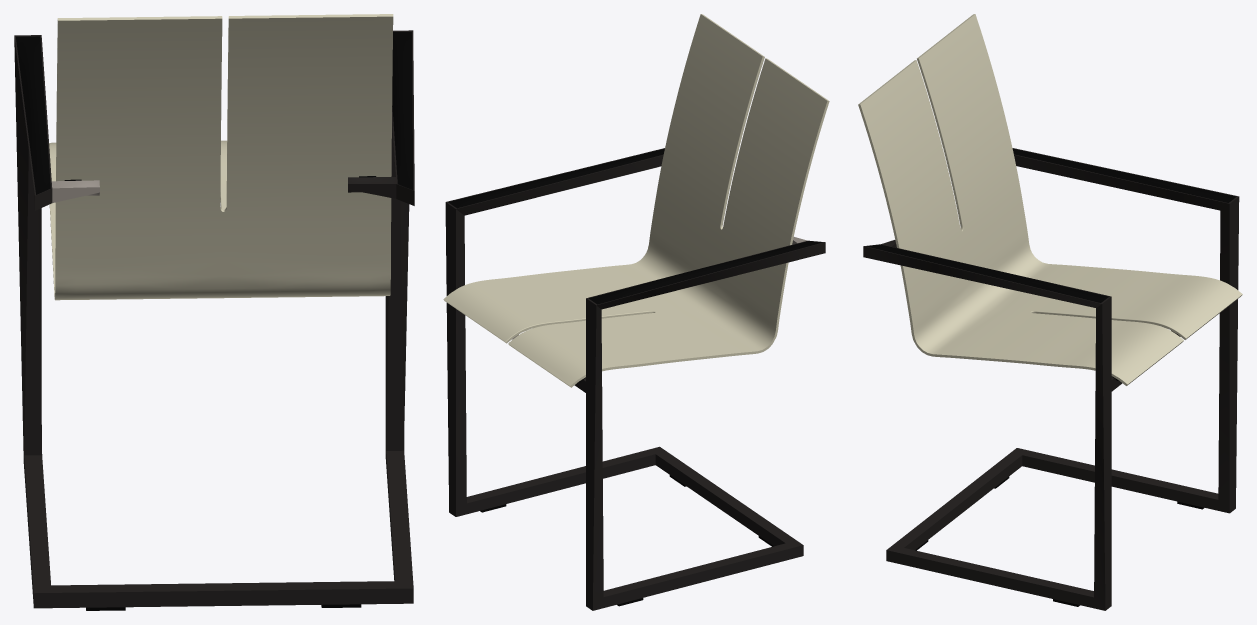
3 renders of one model, left to right at view 1: azimuth 30°, elevation 25°; view 2: azimuth 150°, elevation 25°; view 3: azimuth 270°, elevation 25°, orthographic. The views are drawn at different scales.
Visible parts, largest first — view 1: Obj_000012, Obj_000009, Obj_000011, Obj_000010, Obj_000005, Obj_000006; view 2: Obj_000012, Obj_000009, Obj_000011, Obj_000010; view 3: Obj_000012, Obj_000009, Obj_000010, Obj_000011.
Part boxes in pixels (left/top/right/bottom): Obj_000012: left=49, top=14, right=393, bottom=300; Obj_000009: left=14, top=30, right=414, bottom=608; Obj_000011: left=16, top=36, right=50, bottom=194; Obj_000010: left=392, top=32, right=413, bottom=189; Obj_000005: left=348, top=177, right=396, bottom=198; Obj_000006: left=51, top=180, right=99, bottom=202; Obj_000012: left=443, top=14, right=829, bottom=387; Obj_000009: left=445, top=148, right=825, bottom=610; Obj_000011: left=589, top=241, right=822, bottom=304; Obj_000010: left=448, top=148, right=664, bottom=208; Obj_000012: left=858, top=14, right=1242, bottom=385; Obj_000009: left=863, top=148, right=1239, bottom=610; Obj_000010: left=866, top=244, right=1108, bottom=302; Obj_000011: left=1012, top=148, right=1236, bottom=202.
Bounding box in the file's own units: 72.24 × 93.89 × 73.44.
